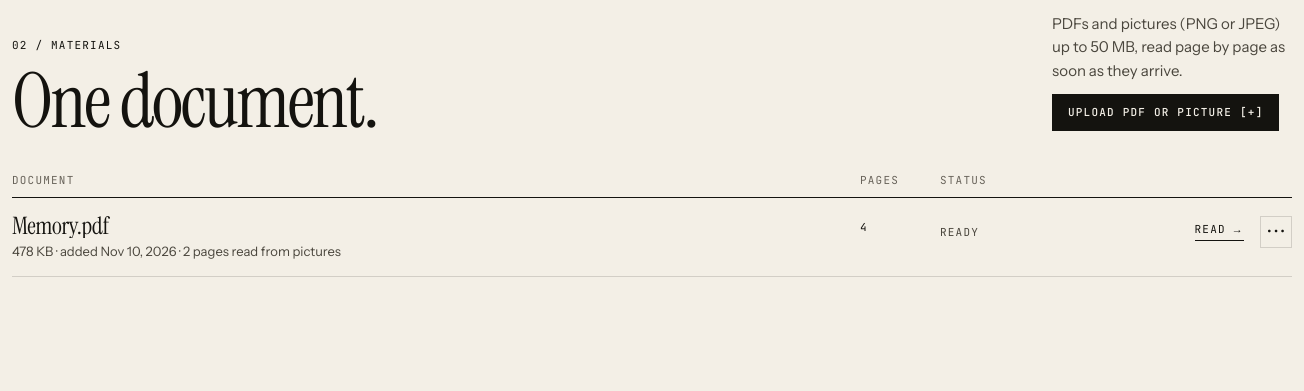
Test: Materials › opens a document on its own page, and its summary there
The image size is (1304, 391).
Expected: the text "478 KB · added Nov 10, 2026 · 2 pages read from pictures" is shown, [12,242,341,258]
Click the button named "More for Memory.pdf".
click(1276, 232)  # box [1260,216,1292,248]
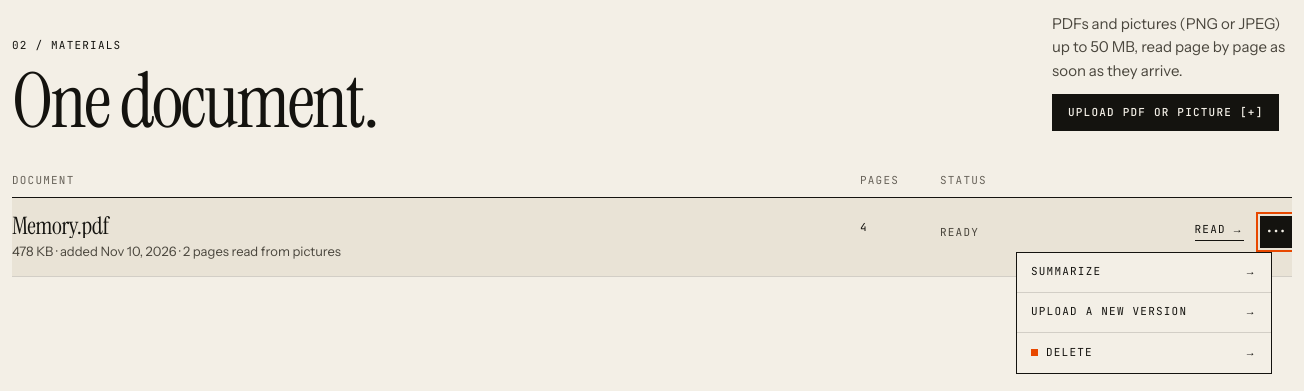
Result: the button "Upload a new version →" is shown at [1017,292,1271,332]
Result: the button "Delete →" is shown at [1017,332,1271,372]
